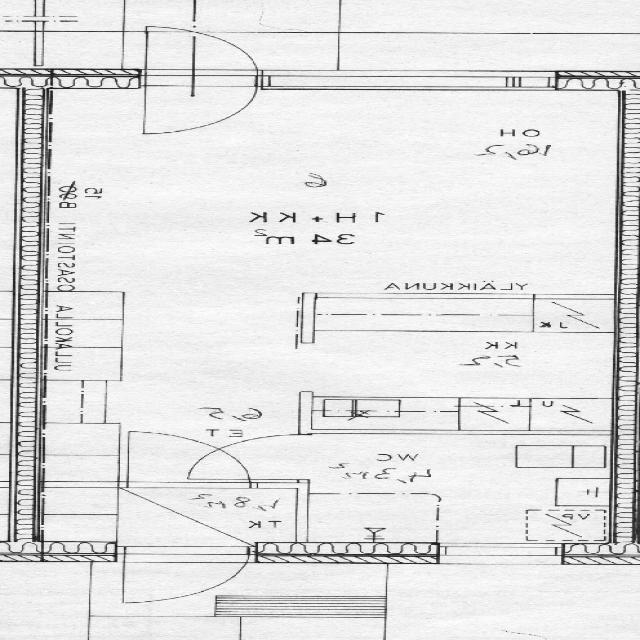door: (125, 546, 249, 614), (128, 431, 250, 488), (147, 70, 257, 131), (147, 26, 257, 86), (190, 435, 312, 479)
